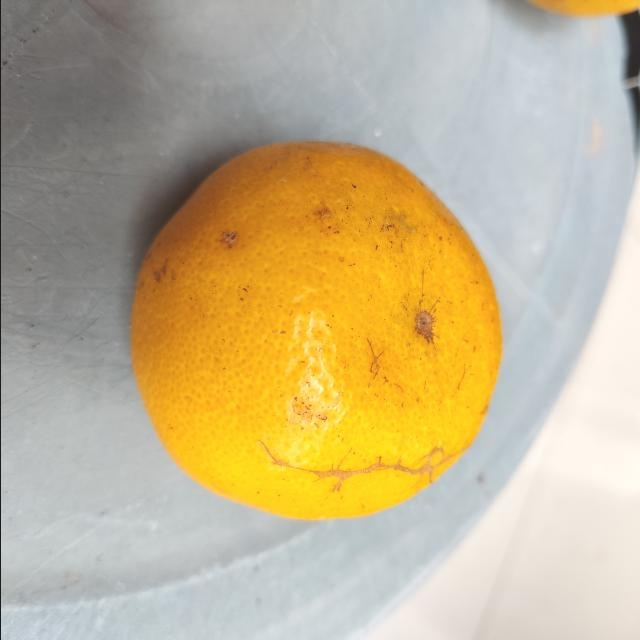agrume: (126, 138, 506, 521)
